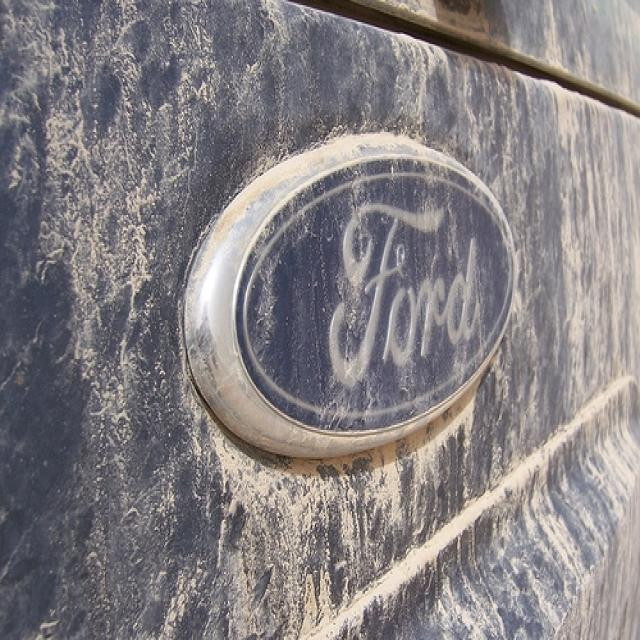ford: (179, 135, 524, 463)
